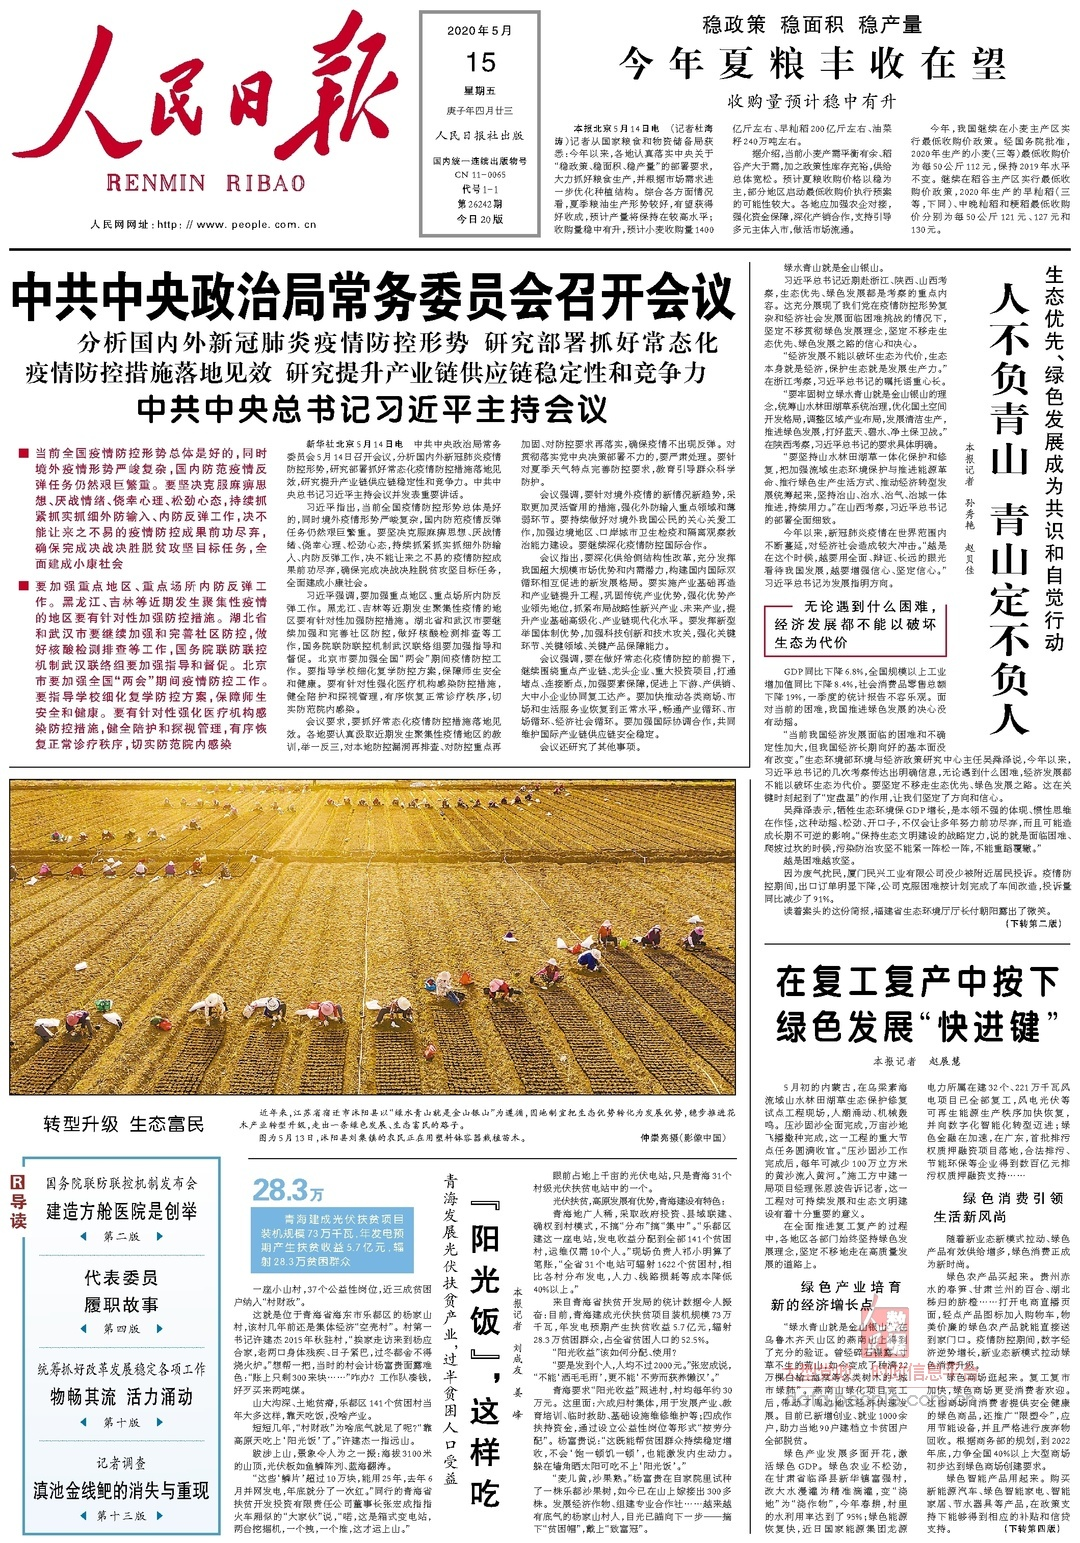pic: (6, 775, 742, 1101)
